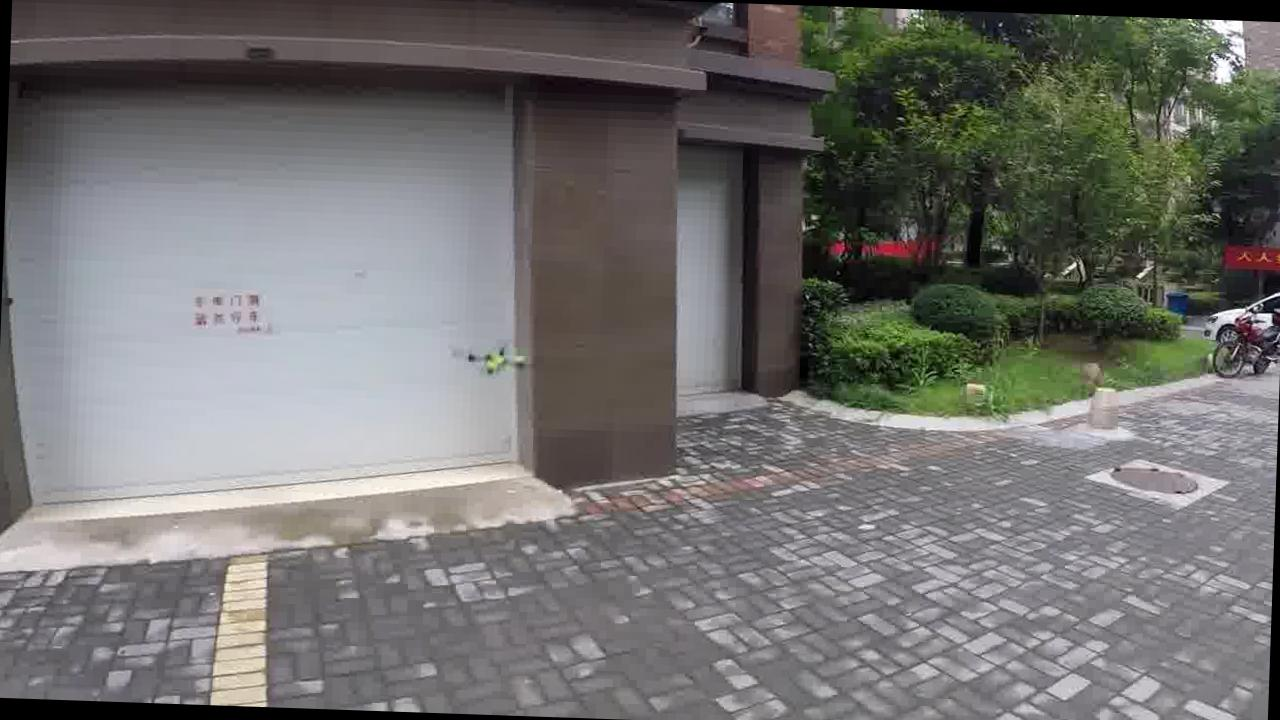drone: (442, 308, 540, 388)
